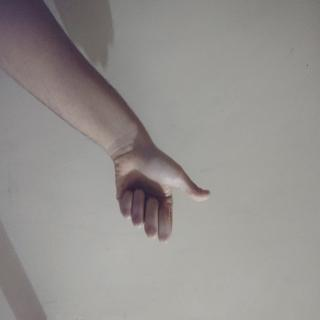ALIF: (104, 138, 185, 286)
